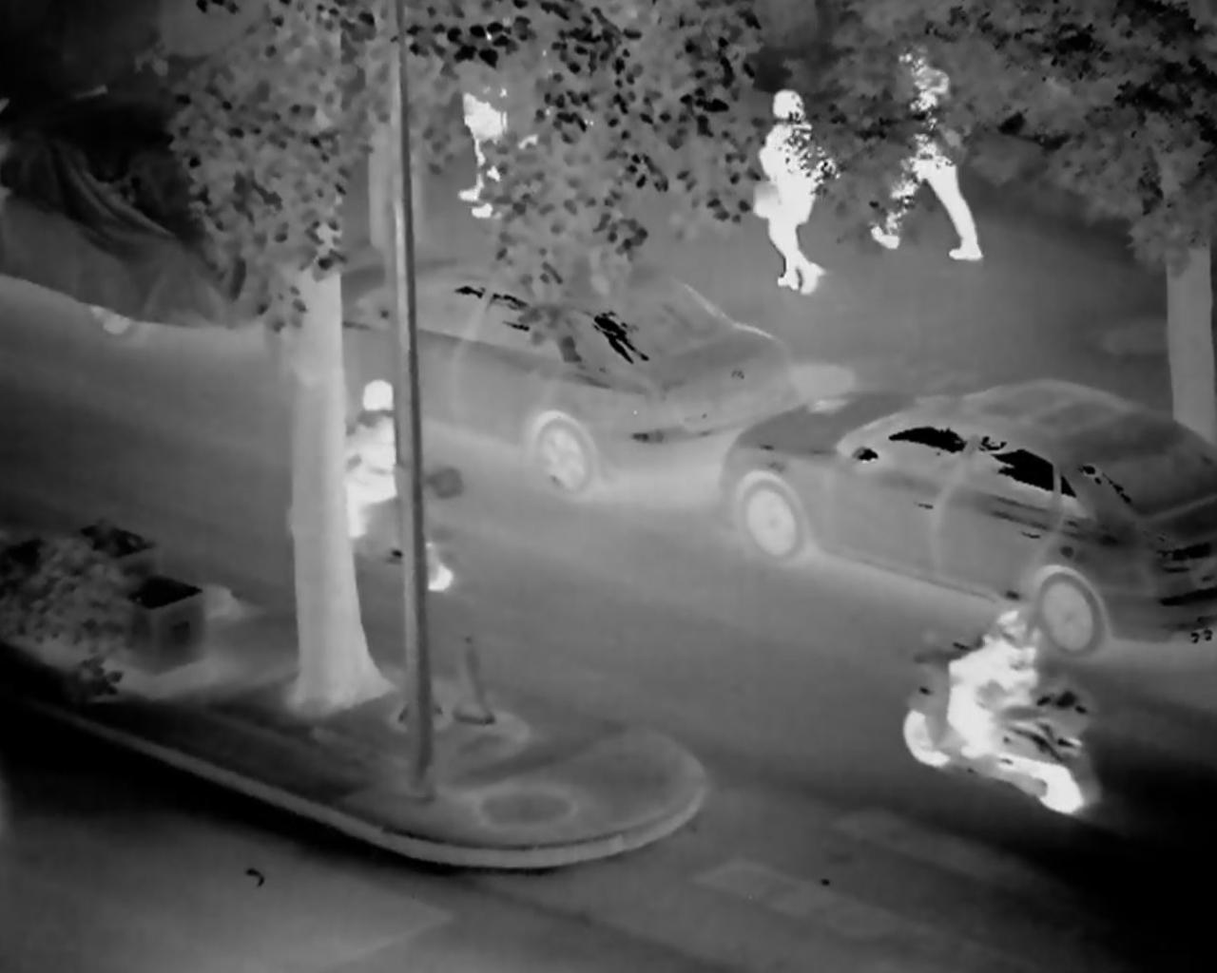person: (904, 582, 1090, 794), (868, 38, 994, 275), (742, 80, 838, 300), (452, 48, 514, 218), (342, 380, 401, 543)
